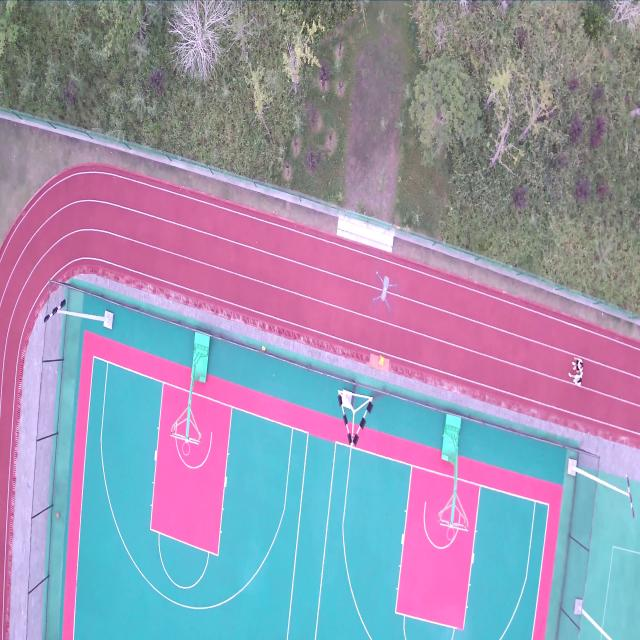UAV: (373, 271, 397, 311)
